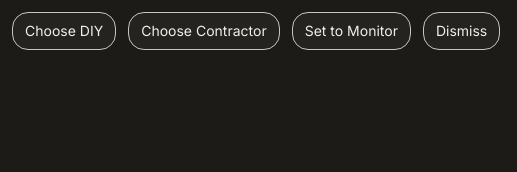
<ChoosePath cardState="decide" /> › surfaces error message on 409 + does not refresh
Click the button with test id "choose-diy" at (64, 31), box [12, 12, 116, 50]
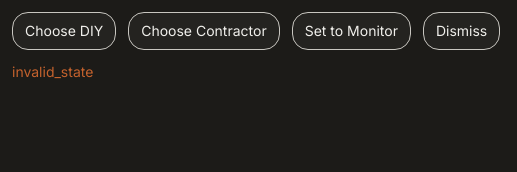
Expected: the text with test id "choose-path-error" reads "invalid_state", [12, 63, 93, 80]
